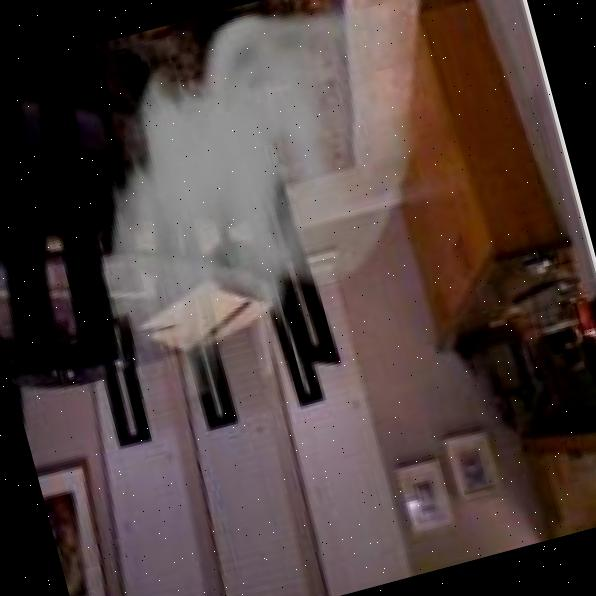smoke: (39, 0, 475, 415)
